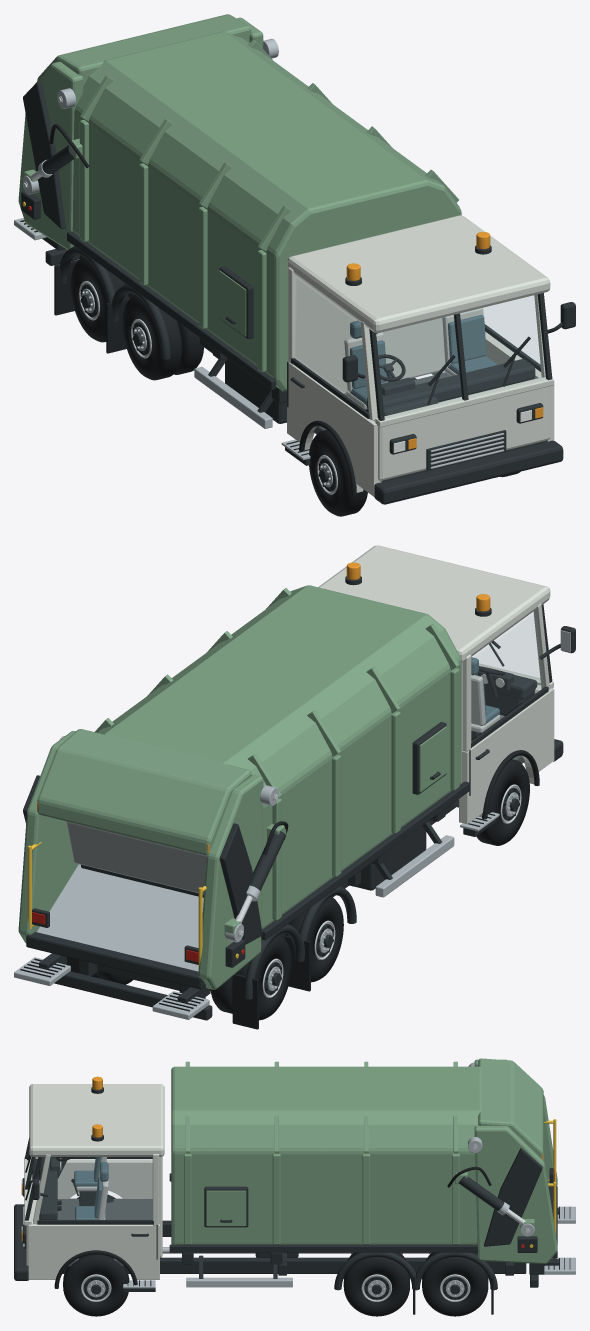
The model's file is city-rear-loading-refuse-truck.glb.
3 renders of one model, top to bottom at view 1: azimuth 30°, elevation 25°; view 2: azimuth 150°, elevation 25°; view 3: azimuth 270°, elevation 25°, orthographic. The views are drawn at different scales.
Visible parts, largest first — view 1: Assembly | Sage green municipal body paint, Assembly | Warm ivory body paint, Assembly | Graphite chassis and trim, Assembly | Charcoal tire and seal rubber, Assembly | Satin aluminium and plated steel, Assembly | Blue grey seat upholstery, Assembly | Lightly tinted alpha blended glazing, Assembly | Light warm interior lining, Assembly | Polished metal detail, Assembly | Opaque inactive amber lenses; view 2: Assembly | Sage green municipal body paint, Assembly | Graphite chassis and trim, Assembly | Satin aluminium and plated steel, Assembly | Warm ivory body paint, Assembly | Charcoal tire and seal rubber, Assembly | Lightly tinted alpha blended glazing, Assembly | Polished metal detail, Assembly | Light warm interior lining, Assembly | Warm yellow handrail coating; view 3: Assembly | Sage green municipal body paint, Assembly | Warm ivory body paint, Assembly | Graphite chassis and trim, Assembly | Charcoal tire and seal rubber, Assembly | Satin aluminium and plated steel, Assembly | Non slip dark interior floor, Assembly | Blue grey seat upholstery, Assembly | Polished metal detail, Assembly | Warm yellow handrail coating, Assembly | Light warm interior lining.
Part boxes in pixels (left/top/right/bottom): Assembly | Sage green municipal body paint: left=18, top=14, right=461, bottom=391; Assembly | Warm ivory body paint: left=287, top=215, right=554, bottom=496; Assembly | Graphite chassis and trim: left=21, top=81, right=575, bottom=504; Assembly | Charcoal tire and seal rubber: left=20, top=124, right=530, bottom=516; Assembly | Satin aluminium and plated steel: left=14, top=38, right=560, bottom=492; Assembly | Blue grey seat upholstery: left=350, top=315, right=497, bottom=405; Assembly | Lightly tinted alpha blended glazing: left=483, top=295, right=540, bottom=367; Assembly | Light warm interior lining: left=344, top=308, right=483, bottom=409; Assembly | Polished metal detail: left=23, top=97, right=337, bottom=494; Assembly | Opaque inactive amber lenses: left=346, top=232, right=543, bottom=449; Assembly | Sage green municipal body paint: left=18, top=585, right=461, bottom=989; Assembly | Graphite chassis and trim: left=23, top=576, right=575, bottom=1020; Assembly | Satin aluminium and plated steel: left=14, top=630, right=570, bottom=1019; Assembly | Warm ivory body paint: left=318, top=545, right=554, bottom=824; Assembly | Charcoal tire and seal rubber: left=20, top=640, right=539, bottom=1029; Assembly | Lightly tinted alpha blended glazing: left=473, top=613, right=540, bottom=679; Assembly | Polished metal detail: left=235, top=784, right=521, bottom=997; Assembly | Light warm interior lining: left=471, top=675, right=499, bottom=732; Assembly | Warm yellow handrail coating: left=28, top=842, right=238, bottom=967; Assembly | Sage green municipal body paint: left=171, top=1058, right=557, bottom=1263; Assembly | Warm ivory body paint: left=24, top=1084, right=164, bottom=1279; Assembly | Graphite chassis and trim: left=14, top=1087, right=558, bottom=1299; Assembly | Charcoal tire and seal rubber: left=27, top=1154, right=570, bottom=1316; Assembly | Satin aluminium and plated steel: left=23, top=1062, right=575, bottom=1300; Assembly | Non slip dark interior floor: left=27, top=1198, right=152, bottom=1266; Assembly | Blue grey seat upholstery: left=74, top=1157, right=108, bottom=1219; Assembly | Polished metal detail: left=81, top=1145, right=529, bottom=1301; Assembly | Warm yellow handrail coating: left=529, top=1119, right=556, bottom=1247; Assembly | Light warm interior lining: left=76, top=1157, right=108, bottom=1219.
Size of the model in its own units: 3.03 by 3.26 by 8.47.
